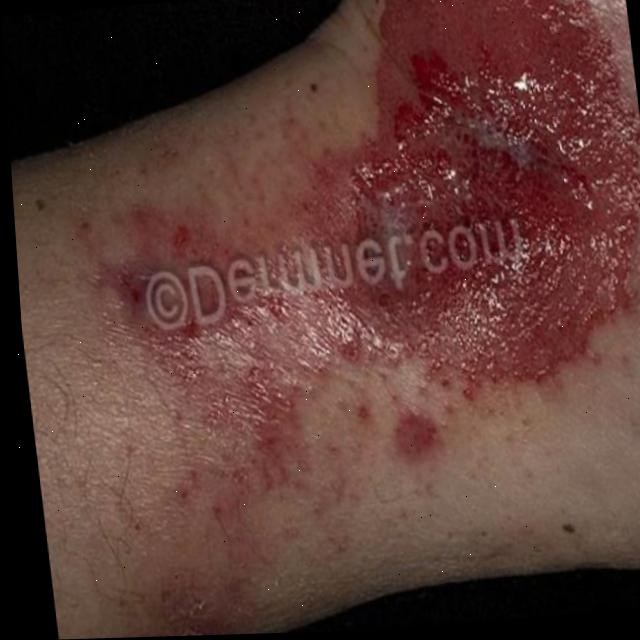Eczema: (128, 0, 640, 484)
